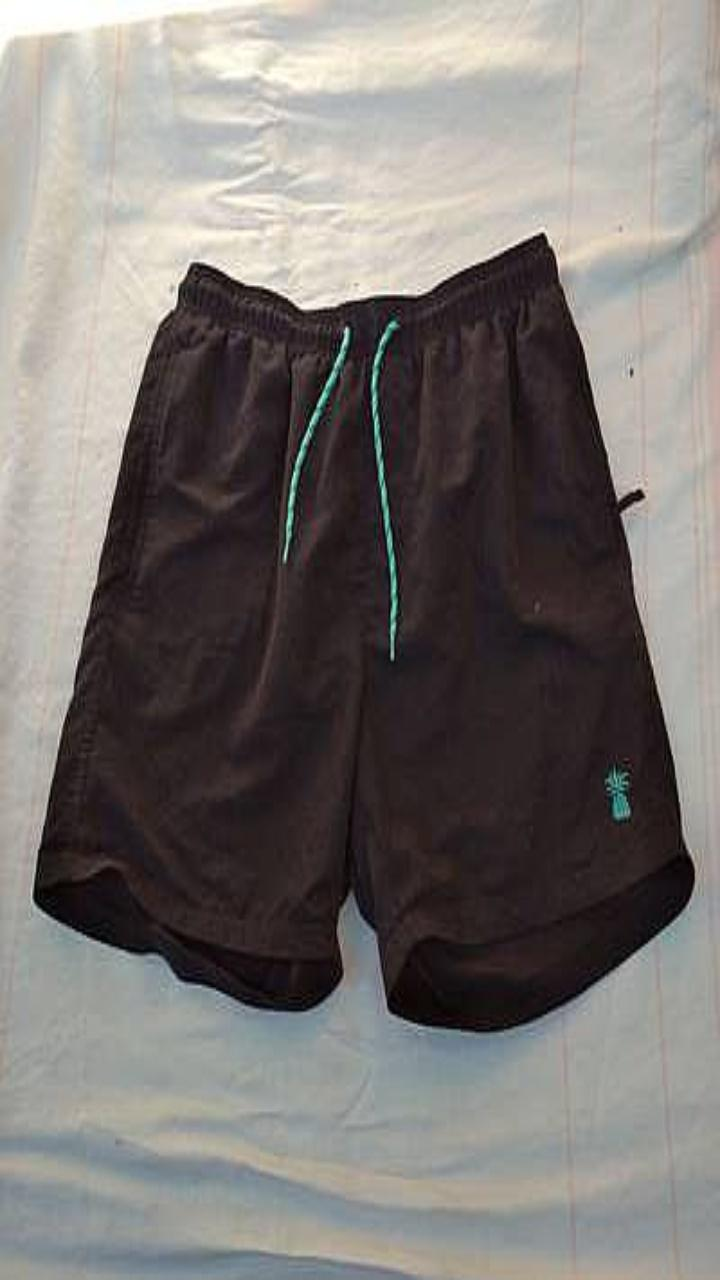Shorts: (33, 231, 693, 1029)
